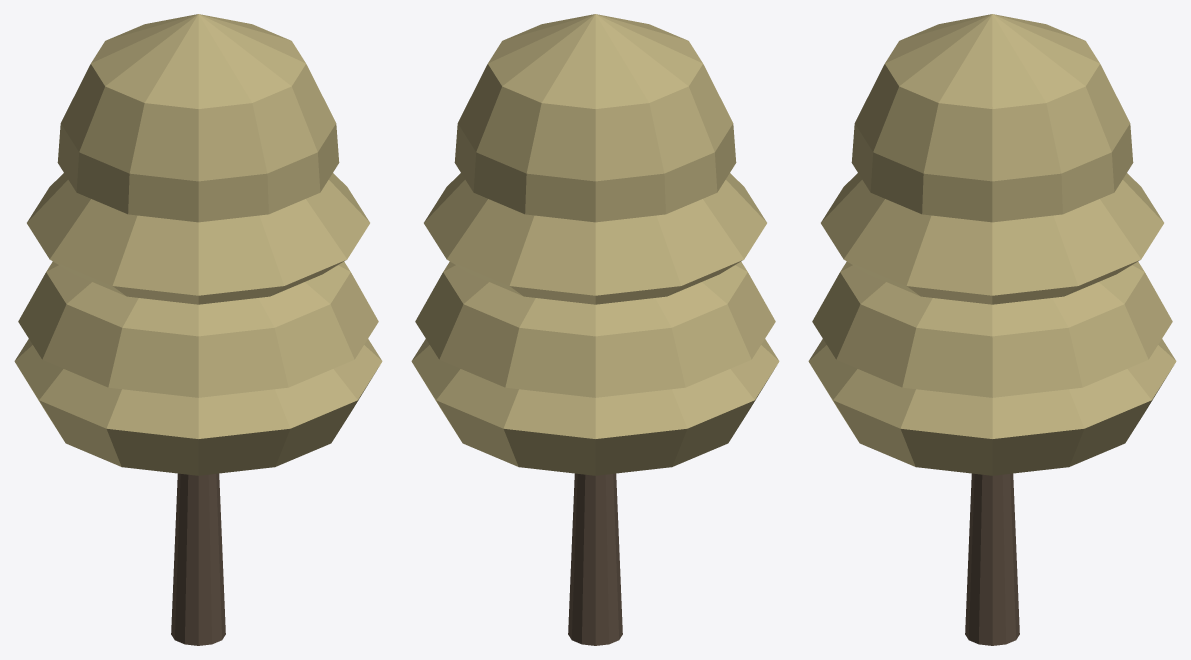
Rendered from tree1.dae.
3 renders of one model, left to right at view 1: azimuth 30°, elevation 25°; view 2: azimuth 150°, elevation 25°; view 3: azimuth 270°, elevation 25°, orthographic.
Parts seen in each view (by area): view 1: mesh; view 2: mesh; view 3: mesh.
Boxes of the visible parts, <box> form: mesh: <box>14,14,382,645</box>; mesh: <box>411,14,779,645</box>; mesh: <box>808,14,1176,645</box>.
Size of the model in its own units: 6.72 by 6.72 by 12.5.
